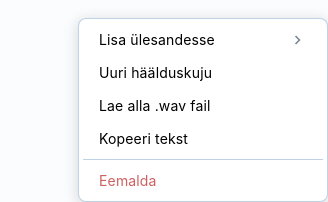
SentenceMenu authenticated › filters tasks by search query
(page scrolled)
Click the text "Lisa ülesandesse".
click(157, 40)  # box [99, 29, 215, 50]
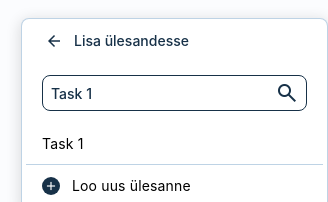
Check: the text "Task 1" is shown, box [42, 133, 84, 154]
